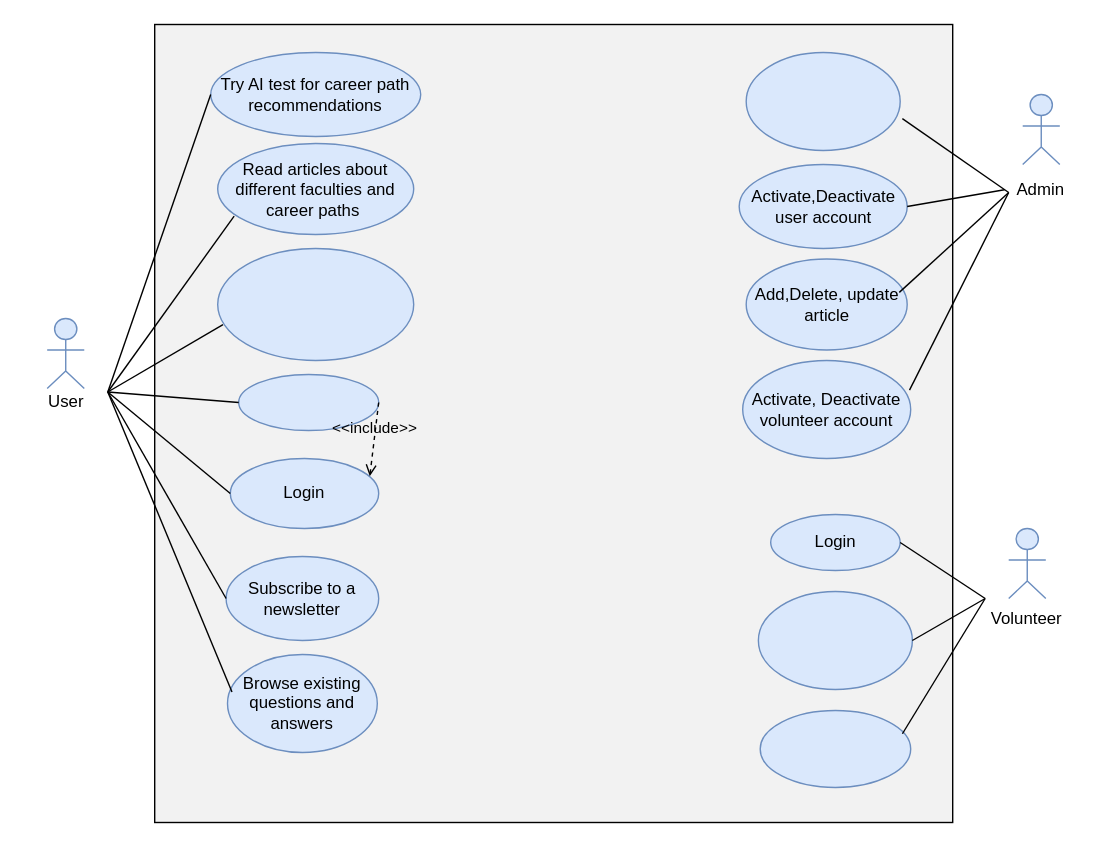
This 1107x847 diagram has some shape labels left out. The box of each missing label's shape, as (x1, y1, x2, y2) in pixels:
Add article about the faculty they are registered in: (757, 590, 912, 690)
Add,Delete Volunteer: (745, 51, 900, 150)
Answer students questions: (759, 709, 911, 788)
Ask questions and get answers from volunteers and our team: (216, 247, 414, 360)
Sign up: (237, 373, 379, 430)
